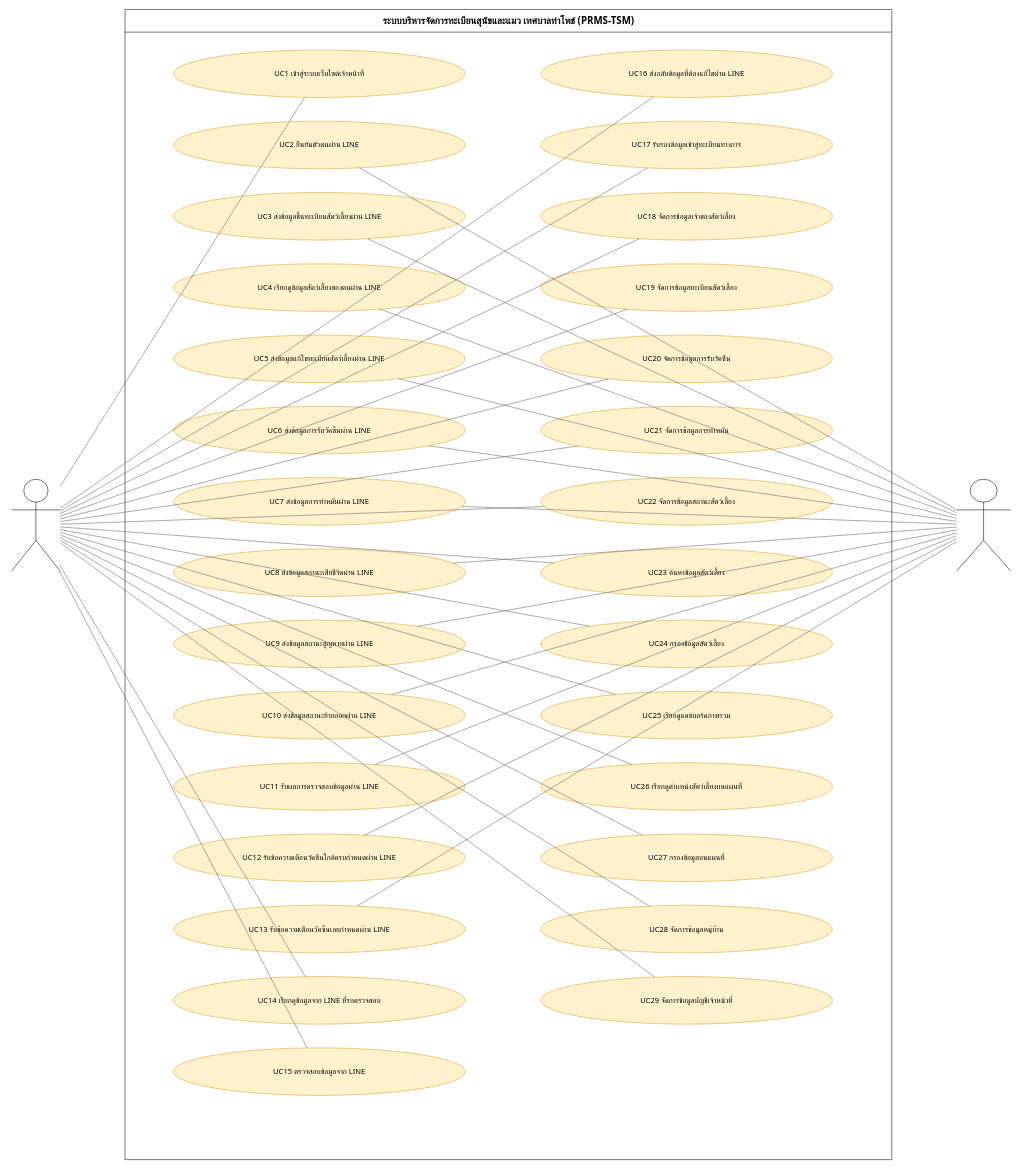
Image size: 1020x1169. Some labels were removed from this diagram. The centre of each missing label's shape, as x and y in pixels:
"เจ้าของสัตว์เลี้ยง" belongs at (983,525).
"เจ้าหน้าที่เทศบาล" belongs at (35,525).
